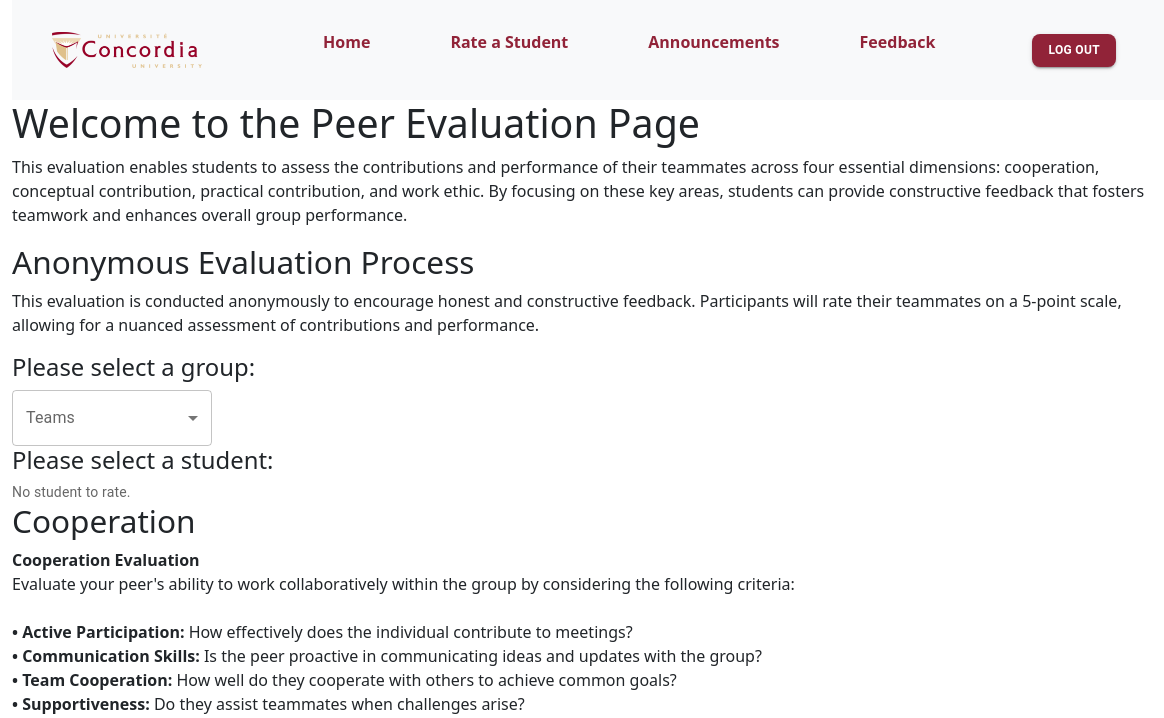
Test case: RatingPage Component › fetches groups and displays options in dropdown
The width and height of the screenshot is (1164, 718).
Step 1. Press the mouse on the dropdown named "Teams" → (112, 418), box 12,390 -> 212,446
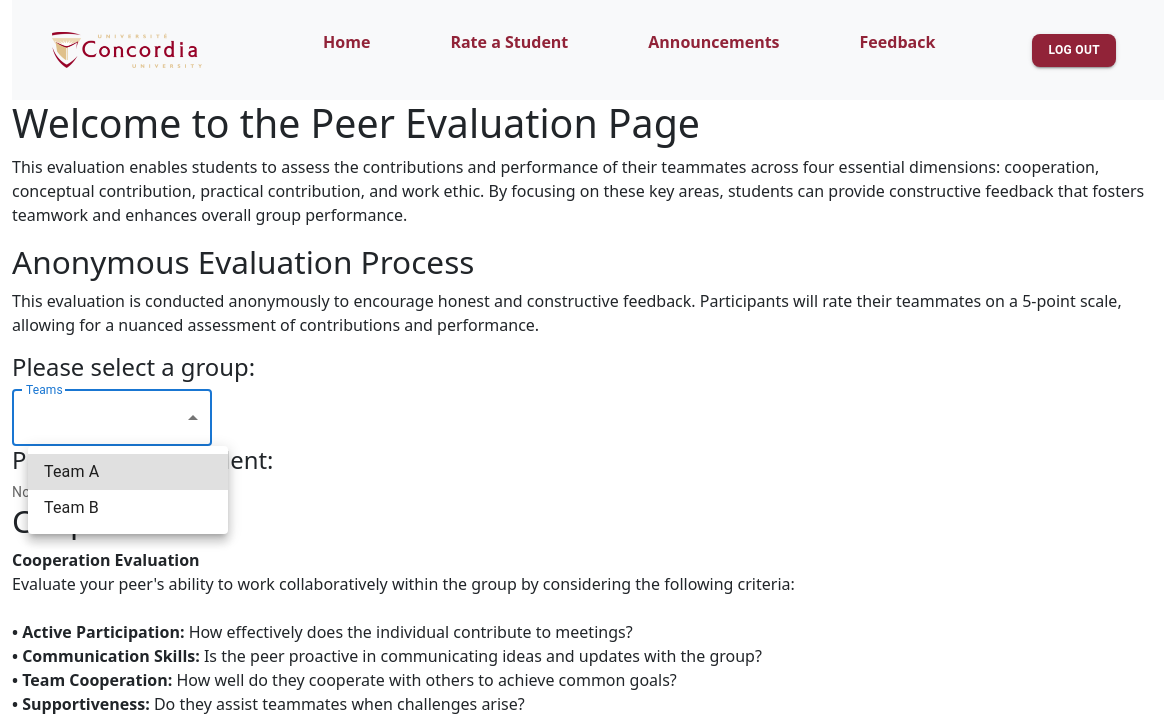
Now the option "Team A" is shown, box 28,454 -> 228,490
Now the option "Team B" is shown, box 44,498 -> 99,517
